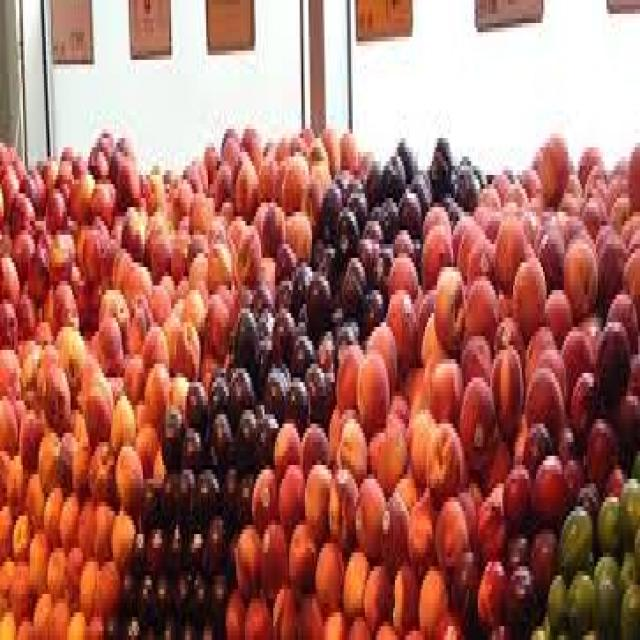organic waste: (423, 414, 460, 502), (594, 318, 628, 410), (458, 373, 492, 465), (384, 286, 418, 378), (490, 341, 522, 437), (432, 492, 465, 584), (367, 414, 407, 488), (557, 502, 591, 585), (562, 230, 596, 313), (559, 322, 591, 410), (434, 258, 464, 350), (510, 248, 541, 332), (531, 447, 564, 525), (473, 474, 504, 557), (358, 350, 388, 433), (504, 562, 538, 635), (74, 368, 109, 438), (354, 470, 382, 557), (476, 552, 506, 631), (416, 557, 446, 636), (492, 207, 522, 286), (53, 322, 85, 396), (286, 516, 316, 594), (529, 520, 557, 603), (524, 364, 562, 424), (594, 216, 621, 300), (324, 465, 354, 539), (314, 534, 344, 608), (569, 364, 596, 446), (405, 484, 432, 566), (259, 516, 286, 598), (300, 461, 326, 544), (501, 456, 532, 525), (427, 350, 458, 419), (206, 272, 233, 350), (584, 414, 612, 488), (302, 359, 332, 428), (381, 488, 405, 571), (110, 138, 140, 203), (590, 571, 620, 635), (534, 138, 566, 198), (336, 410, 366, 474), (37, 355, 67, 419), (76, 212, 106, 276), (390, 552, 414, 631), (25, 221, 49, 299), (362, 557, 389, 626), (464, 272, 495, 332), (250, 456, 275, 529), (603, 290, 636, 345), (420, 221, 450, 281), (122, 286, 152, 346), (76, 272, 106, 332), (335, 336, 361, 405), (277, 456, 303, 525), (141, 212, 168, 276), (235, 520, 258, 594), (342, 544, 367, 612), (542, 281, 570, 341), (460, 322, 490, 378), (367, 318, 395, 378), (337, 253, 365, 313), (192, 465, 220, 525), (534, 341, 564, 396), (134, 414, 159, 479), (568, 562, 590, 635), (235, 217, 258, 286), (51, 276, 79, 332), (616, 474, 638, 544), (594, 493, 622, 548), (272, 410, 300, 465), (520, 419, 550, 470), (406, 410, 428, 479), (93, 552, 120, 608), (480, 433, 510, 483), (280, 142, 305, 202), (141, 354, 166, 414), (88, 432, 113, 492), (303, 272, 330, 327), (95, 281, 127, 327), (0, 180, 32, 226), (614, 386, 638, 446), (233, 156, 257, 216), (176, 313, 198, 378), (113, 442, 139, 497), (46, 230, 74, 281), (160, 401, 182, 465), (386, 249, 414, 299), (453, 157, 481, 207), (220, 460, 240, 530), (19, 156, 44, 212), (354, 286, 384, 332), (97, 313, 120, 373), (109, 387, 134, 442), (240, 594, 273, 635), (420, 308, 442, 368), (248, 336, 272, 391), (18, 332, 37, 401), (270, 585, 296, 635), (160, 511, 180, 576), (85, 129, 111, 179), (303, 161, 326, 217), (16, 405, 39, 461), (60, 428, 88, 474), (120, 202, 143, 258), (229, 304, 252, 359), (492, 313, 522, 355), (428, 134, 449, 194), (284, 368, 305, 428), (90, 492, 111, 552), (580, 189, 605, 239), (67, 166, 92, 216), (465, 230, 492, 276), (296, 590, 323, 636), (377, 148, 404, 194), (123, 258, 150, 304), (457, 474, 476, 539), (540, 225, 562, 281), (206, 368, 228, 424), (457, 221, 481, 272), (414, 286, 432, 354), (166, 170, 192, 217), (174, 470, 194, 530), (260, 194, 280, 254), (58, 484, 78, 544), (167, 221, 187, 281), (300, 419, 326, 465), (547, 566, 564, 636), (394, 184, 422, 226), (210, 405, 231, 461), (37, 423, 58, 479), (3, 451, 24, 507), (284, 152, 305, 207), (28, 525, 46, 589), (504, 516, 529, 562), (208, 235, 231, 285), (111, 502, 134, 552), (141, 157, 164, 207), (122, 345, 144, 396), (42, 479, 60, 539), (319, 184, 340, 235), (187, 571, 208, 622), (619, 580, 638, 636), (619, 207, 638, 263), (76, 543, 95, 599), (254, 405, 277, 451), (90, 175, 113, 221), (14, 272, 35, 322), (270, 304, 289, 359), (76, 488, 92, 553), (365, 244, 390, 285), (141, 318, 166, 359), (621, 244, 638, 304), (328, 400, 345, 460), (25, 465, 42, 525), (188, 189, 210, 235), (10, 226, 32, 272), (284, 207, 308, 249), (97, 230, 115, 286), (185, 378, 205, 428), (182, 516, 202, 566), (208, 193, 235, 230), (525, 318, 552, 354), (256, 138, 275, 189), (46, 543, 65, 594), (557, 170, 580, 212), (370, 193, 393, 235), (342, 180, 363, 226), (335, 207, 356, 253), (9, 557, 30, 603), (291, 253, 307, 313), (0, 346, 16, 406), (145, 520, 162, 576), (582, 157, 605, 198), (316, 318, 333, 373), (562, 451, 582, 497), (606, 148, 626, 194), (222, 590, 242, 636), (200, 327, 220, 373), (213, 161, 231, 212), (0, 295, 18, 345), (138, 575, 154, 631), (578, 304, 602, 341), (575, 143, 599, 180), (502, 175, 526, 212), (289, 322, 310, 364), (206, 511, 222, 566), (210, 571, 226, 626), (322, 120, 338, 175), (395, 134, 414, 180), (360, 152, 379, 198), (159, 580, 176, 631), (189, 244, 206, 295), (409, 364, 430, 405), (228, 364, 245, 414), (450, 207, 470, 249), (338, 124, 358, 166), (183, 285, 203, 327), (111, 239, 131, 281), (44, 184, 64, 226), (264, 368, 286, 406), (420, 198, 446, 230), (323, 604, 349, 636), (138, 479, 158, 520), (79, 341, 99, 382), (236, 405, 252, 456), (182, 428, 204, 465), (555, 208, 580, 240), (236, 461, 252, 511), (0, 249, 16, 299), (0, 391, 14, 447), (554, 414, 571, 460), (256, 248, 273, 294), (48, 594, 67, 635), (575, 479, 596, 516), (122, 562, 136, 617), (162, 304, 176, 359), (384, 387, 408, 419), (608, 188, 628, 226), (220, 133, 238, 175), (167, 364, 187, 401), (319, 244, 337, 285), (130, 525, 146, 571), (32, 590, 48, 636), (10, 511, 27, 553), (184, 156, 206, 188), (395, 465, 414, 502), (411, 165, 430, 202), (471, 203, 497, 230), (346, 608, 372, 635), (158, 470, 172, 520), (393, 225, 413, 258), (275, 235, 291, 276), (226, 212, 242, 253), (240, 125, 261, 156), (66, 538, 80, 584), (490, 166, 510, 198), (273, 276, 293, 308), (60, 401, 83, 428), (108, 202, 124, 240), (0, 502, 11, 557), (628, 142, 638, 202), (226, 520, 236, 580), (53, 165, 69, 202), (0, 161, 16, 198), (605, 460, 626, 488), (203, 138, 217, 180), (591, 552, 615, 576), (268, 152, 282, 193), (6, 143, 20, 184), (0, 548, 11, 598), (309, 134, 326, 166), (438, 608, 458, 635), (482, 612, 504, 636), (122, 612, 144, 636), (617, 543, 631, 580), (624, 345, 638, 382), (85, 608, 104, 635), (67, 608, 86, 635), (522, 161, 539, 189), (361, 217, 381, 240), (104, 612, 123, 636), (631, 520, 638, 585), (520, 212, 531, 253), (372, 617, 397, 635), (468, 465, 482, 497), (0, 604, 14, 636), (37, 152, 51, 184), (478, 180, 497, 202), (308, 230, 321, 262), (160, 267, 174, 295), (566, 156, 578, 188), (527, 617, 548, 635), (256, 304, 270, 331), (71, 148, 88, 170), (176, 576, 187, 608), (132, 387, 143, 419), (218, 120, 234, 142), (231, 276, 249, 295), (171, 286, 183, 313), (275, 129, 286, 156), (402, 617, 418, 635), (496, 295, 512, 313), (293, 294, 305, 318), (54, 157, 70, 175), (0, 138, 9, 170), (288, 133, 302, 152), (300, 120, 312, 142), (250, 281, 264, 299), (18, 617, 32, 635), (630, 446, 638, 469), (60, 142, 70, 156), (337, 170, 349, 180)
